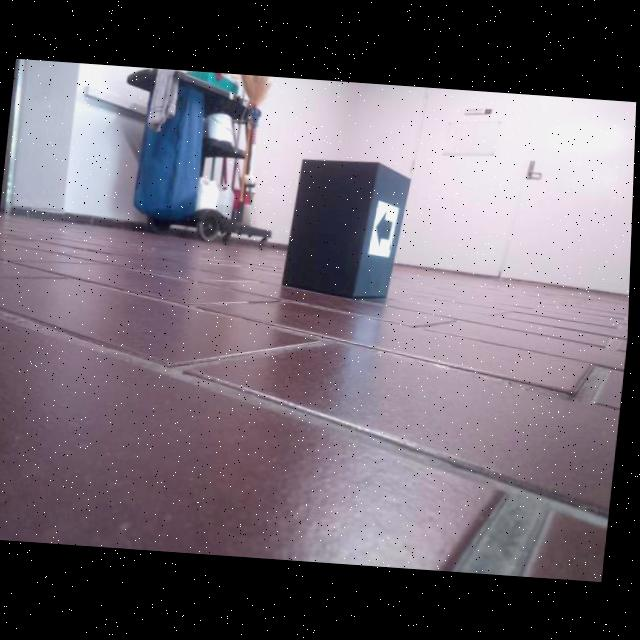LEFT: (377, 209, 395, 249)
